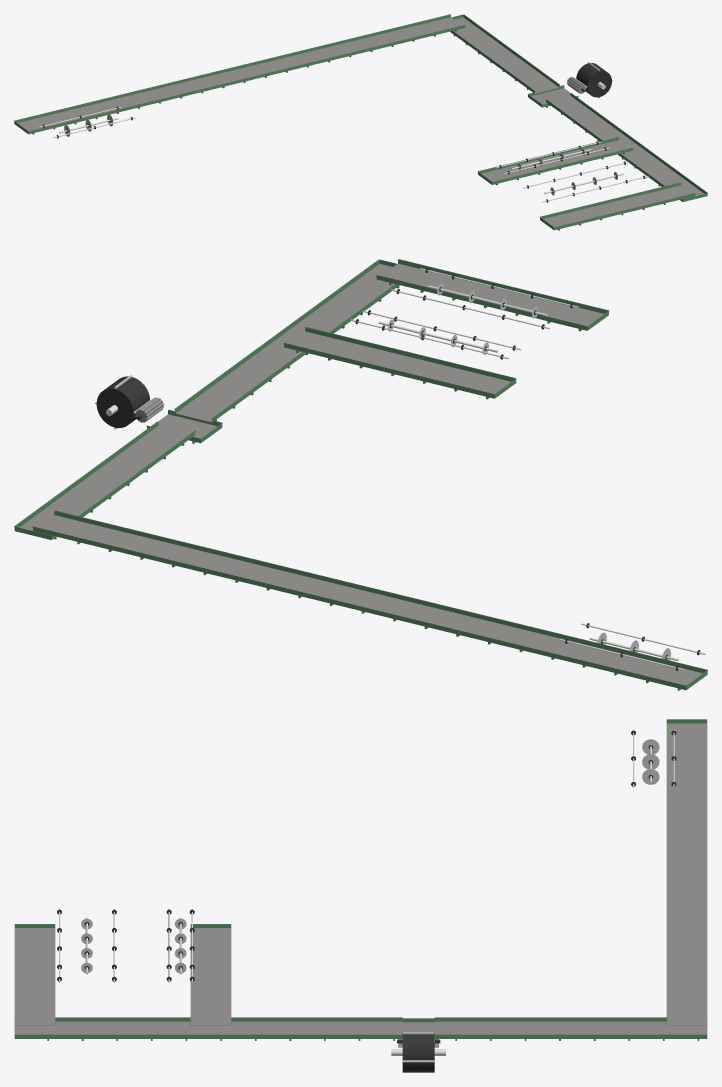
The model's file is waste_parts.glb.
The picture shows the model from 3 angles, top to bottom: view 1: azimuth 30°, elevation 25°; view 2: azimuth 150°, elevation 25°; view 3: azimuth 270°, elevation 25°; orthographic projection. The views are drawn at different scales.
Parts seen in each view (by area): view 1: WS_Pan1Mesh, WS_Pan5Mesh, WS_Pan2Mesh, WS_Pan4Mesh, WS_Pan3Mesh, WS_DrumMesh, WS_Pan6Mesh; view 2: WS_Pan1Mesh, WS_Pan5Mesh, WS_Pan3Mesh, WS_Pan2Mesh, WS_Pan4Mesh, WS_DrumMesh, WS_Pan6Mesh; view 3: WS_Pan1Mesh, WS_Pan5Mesh, WS_Pan2Mesh, WS_Pan4Mesh, WS_Pan3Mesh, WS_DrumMesh, WS_SlabArborMesh.
Part boxes in pixels (left/top/right/bottom): WS_Pan1Mesh: left=14, top=14, right=465, bottom=134; WS_Pan5Mesh: left=545, top=93, right=707, bottom=201; WS_Pan2Mesh: left=450, top=14, right=559, bottom=93; WS_Pan4Mesh: left=540, top=182, right=695, bottom=230; WS_Pan3Mesh: left=477, top=137, right=633, bottom=185; WS_DrumMesh: left=576, top=62, right=613, bottom=98; WS_Pan6Mesh: left=527, top=85, right=578, bottom=107; WS_Pan1Mesh: left=32, top=510, right=707, bottom=690; WS_Pan5Mesh: left=174, top=259, right=399, bottom=422; WS_Pan3Mesh: left=283, top=327, right=516, bottom=399; WS_Pan2Mesh: left=14, top=421, right=195, bottom=539; WS_Pan4Mesh: left=376, top=259, right=609, bottom=331; WS_DrumMesh: left=95, top=375, right=149, bottom=429; WS_Pan6Mesh: left=146, top=410, right=222, bottom=443; WS_Pan1Mesh: left=666, top=719, right=707, bottom=1025; WS_Pan5Mesh: left=14, top=1017, right=402, bottom=1040; WS_Pan2Mesh: left=434, top=1017, right=707, bottom=1040; WS_Pan4Mesh: left=14, top=924, right=55, bottom=1025; WS_Pan3Mesh: left=190, top=924, right=231, bottom=1025; WS_DrumMesh: left=391, top=1032, right=445, bottom=1072; WS_SlabArborMesh: left=642, top=739, right=659, bottom=784.
Size of the model in its own units: 27.93 by 1.69 by 24.06.
